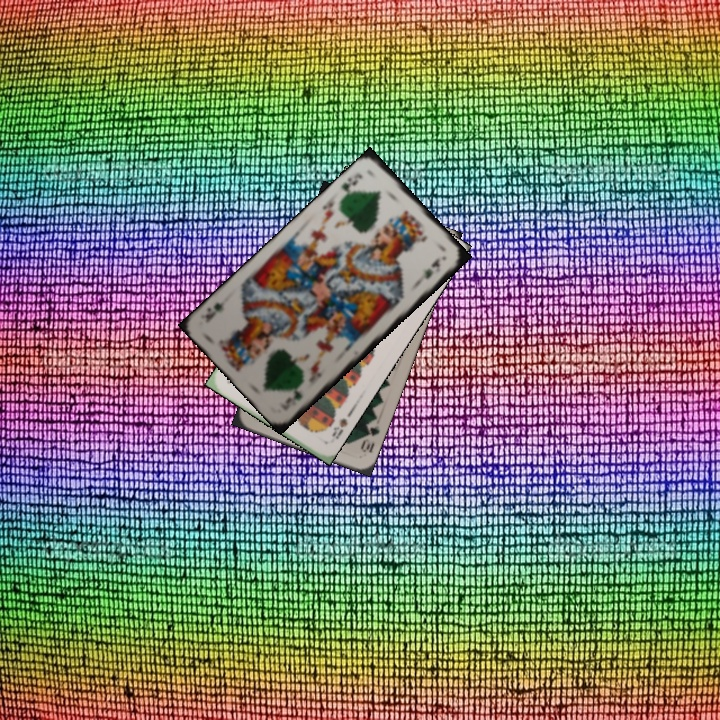G10: (356, 416, 382, 455)
GK: (337, 169, 365, 201), (281, 386, 305, 407)
S8: (327, 414, 350, 442)
